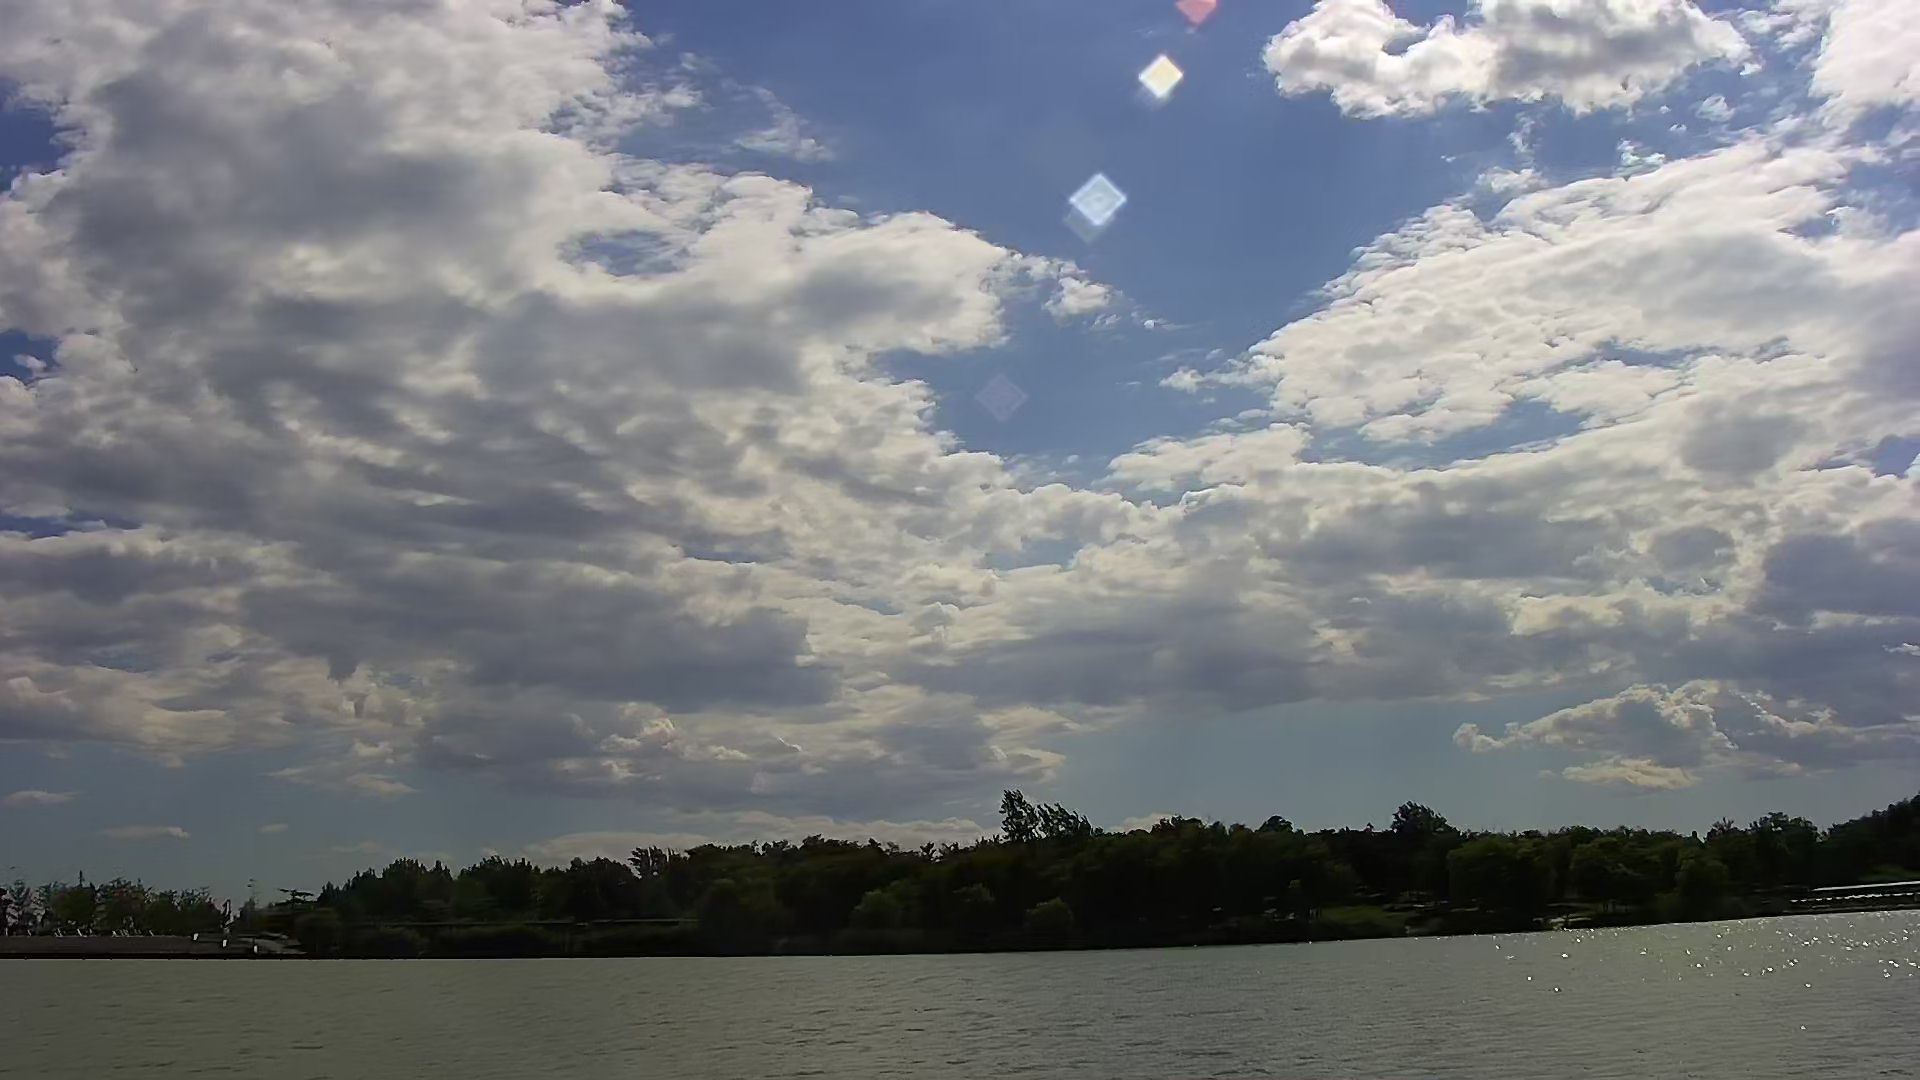harbor: (1, 920, 309, 963)
